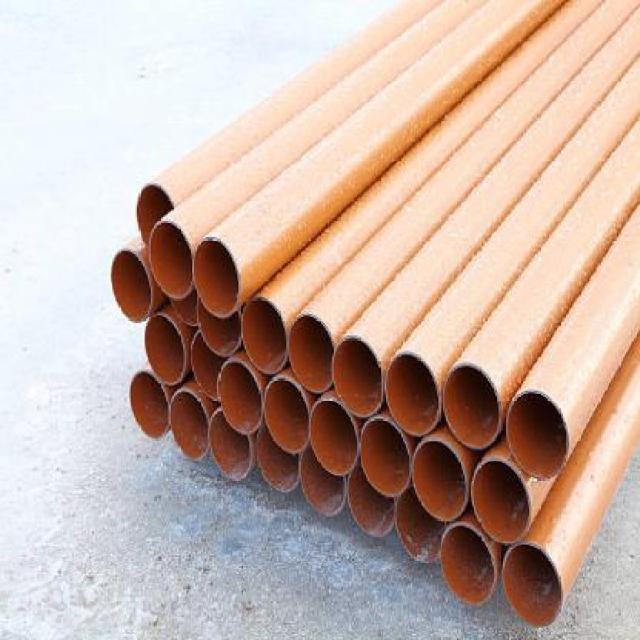pipe: (506, 391, 569, 479), (472, 457, 531, 545), (503, 543, 563, 628), (443, 365, 502, 450), (440, 523, 496, 608), (385, 354, 441, 436), (411, 440, 467, 522), (332, 337, 383, 419), (360, 417, 411, 499), (194, 237, 242, 319), (242, 297, 290, 376), (309, 398, 357, 477), (263, 377, 311, 454), (395, 486, 443, 563), (150, 220, 196, 299), (288, 314, 334, 393), (217, 358, 262, 434), (348, 466, 396, 537), (299, 449, 347, 517), (208, 411, 253, 482), (111, 248, 151, 323), (145, 314, 187, 385), (257, 426, 300, 494), (129, 371, 169, 442), (197, 295, 242, 357), (169, 390, 209, 459), (137, 183, 176, 248), (192, 331, 223, 399)
